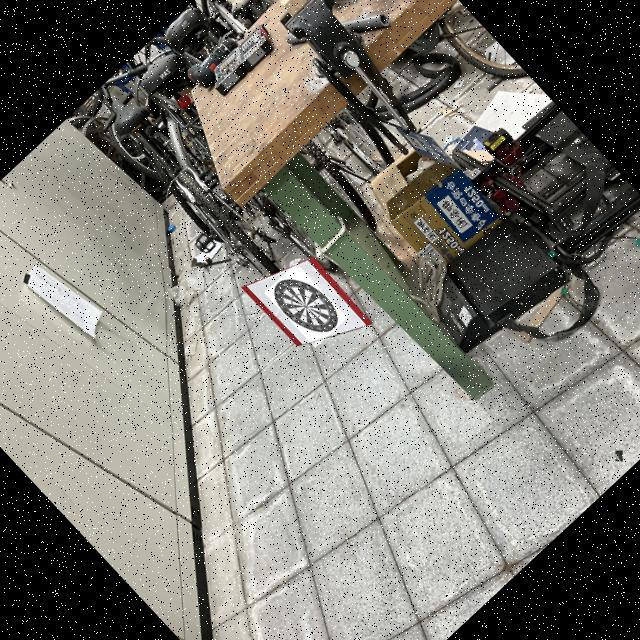archery-targets: (264, 263, 347, 348)
